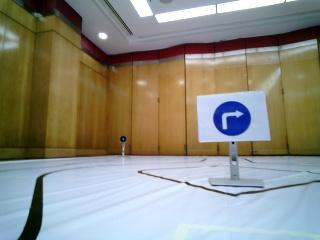right: (196, 92, 271, 137)
